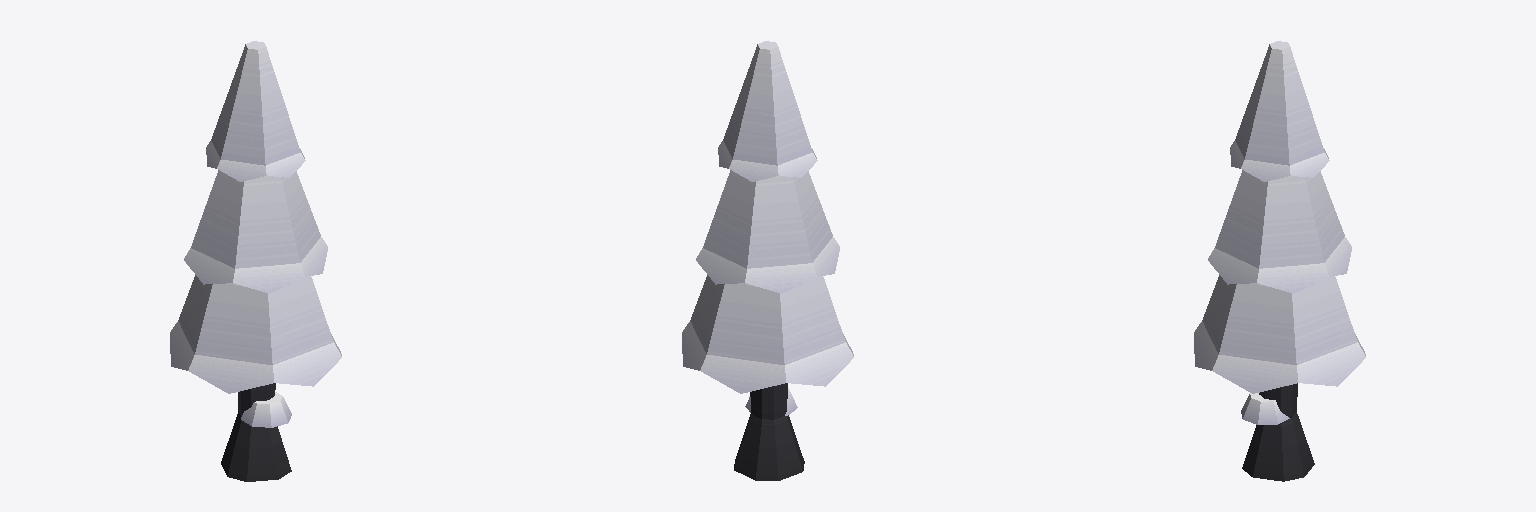
3 views of the same model, side by side, from view 1: azimuth 30°, elevation 25°; view 2: azimuth 150°, elevation 25°; view 3: azimuth 270°, elevation 25° (orthographic).
Visible parts, largest first — view 1: tree.060; view 2: tree.060; view 3: tree.060.
Part boxes in pixels (x1,y1,x2,y2): tree.060: (170,41,341,481); tree.060: (682,41,853,480); tree.060: (1194,41,1365,481).
Size of the model in its own units: 1.33 by 3.47 by 1.29.
Materials: 1 (1 with a texture image).